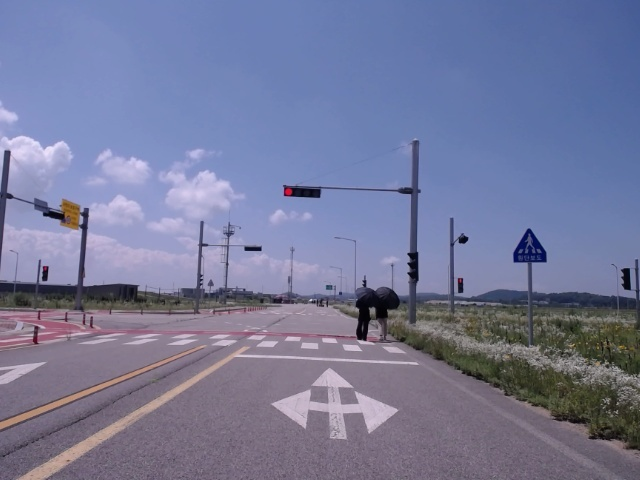red_4: (284, 187, 320, 198)
